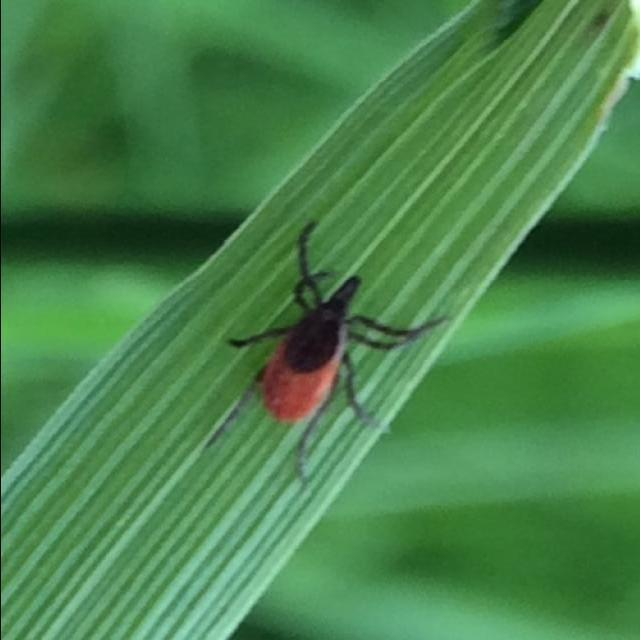Ixodes Ricinus-F: (229, 219, 447, 483)
